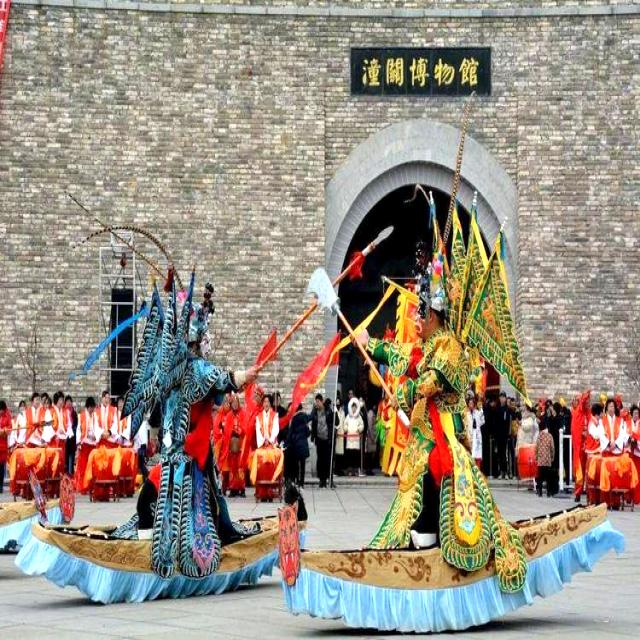Reeves-s Pheasant: (441, 93, 474, 242)
